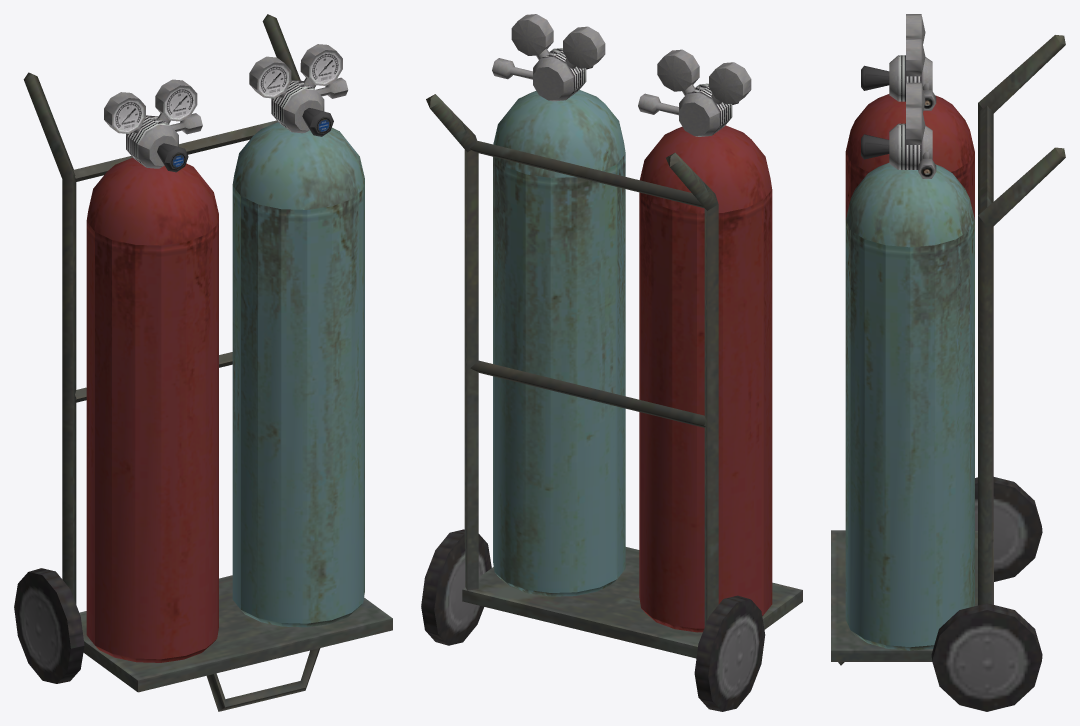
The model's file is welding_gas.fbx.
3 views of the same model, side by side, from view 1: azimuth 30°, elevation 25°; view 2: azimuth 150°, elevation 25°; view 3: azimuth 270°, elevation 25° (orthographic). The views are drawn at different scales.
Visible parts, largest first — view 1: DYNAMIC_weldinggas; view 2: DYNAMIC_weldinggas; view 3: DYNAMIC_weldinggas.
Part boxes in pixels (x1,y1,x2,y2): DYNAMIC_weldinggas: [14, 14, 392, 711]; DYNAMIC_weldinggas: [421, 14, 802, 711]; DYNAMIC_weldinggas: [831, 14, 1065, 711].
Size of the model in its own units: 66.45 by 47.58 by 130.
Materials: 1 (1 with a texture image).
